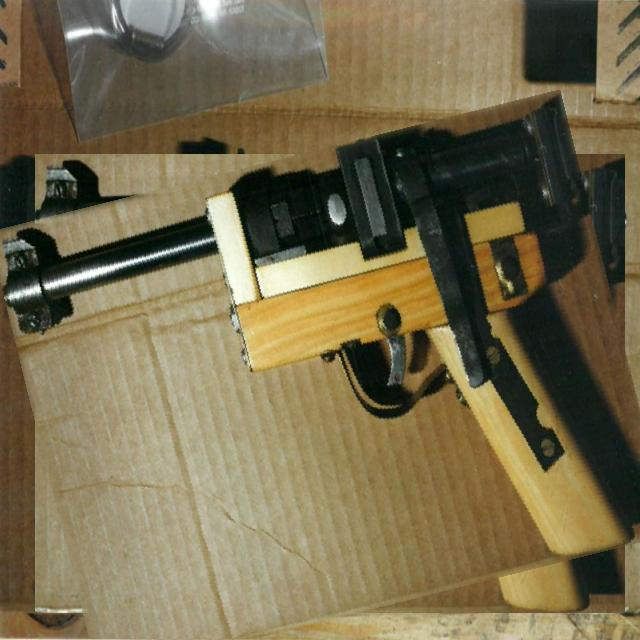gun: (12, 121, 640, 640)
